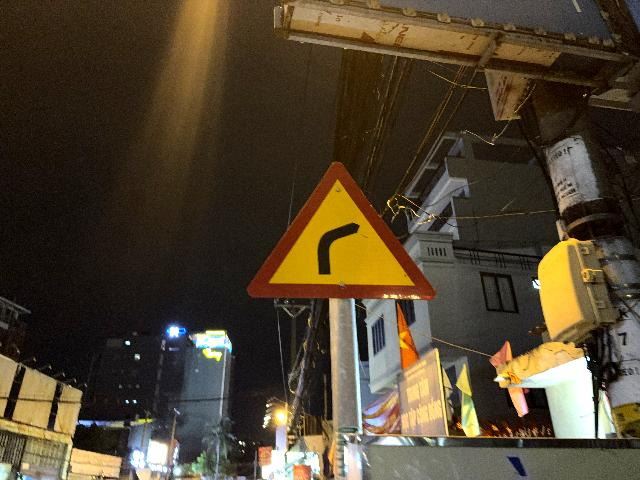cho-ngoat-nguy-hiem-ben-phai: (247, 161, 437, 299)
